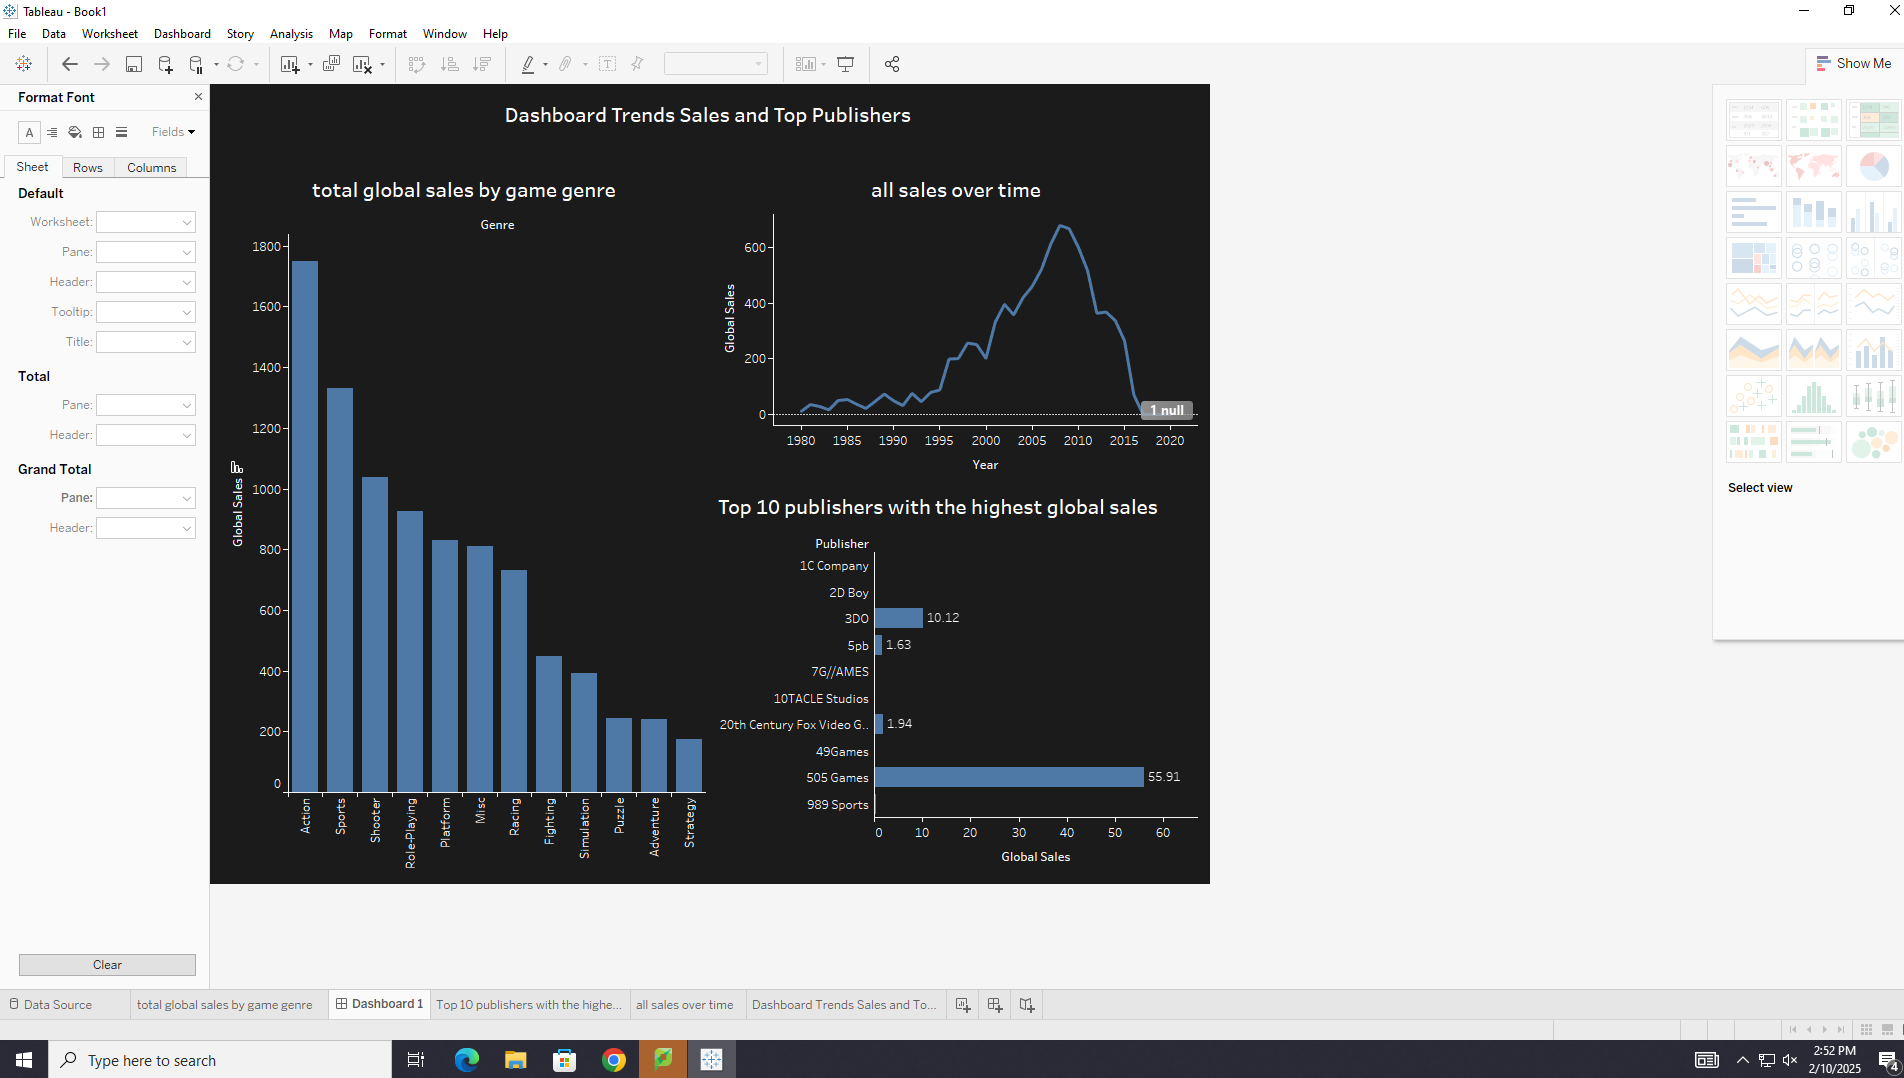

The page's visual inventory and layout, read from the dashboard file:
{"tool":"tableau","page":{"name":"Dashboard 1","canvas":[1000,800],"ordinal":0},"visuals":[{"type":"worksheet","title":"Dashboard Trends Sales and Top Publishers ","mark":"Automatic","box":[8,8,984,75]},{"type":"worksheet","title":"total global sales by game genre","mark":"Automatic","rows":["Global_Sales"],"cols":["Genre"],"box":[8,83,492,709]},{"type":"worksheet","title":"all sales over time","mark":"Line","rows":["Global_Sales"],"cols":["Year"],"box":[500,83,492,317]},{"type":"worksheet","title":"Top 10 publishers with the highest global sales","mark":"Automatic","rows":["Publisher"],"cols":["Global_Sales"],"box":[500,400,492,392]}]}

Visuals, with their boxes in screenshot pixels (x1, y1, x2, y2):
"Dashboard Trends Sales and Top Publishers " worksheet: (551,0,1856,85)
"total global sales by game genre" worksheet: (551,85,1204,1026)
"all sales over time" worksheet (Line marks): (1204,85,1856,506)
"Top 10 publishers with the highest global sales" worksheet: (1204,506,1856,1026)
